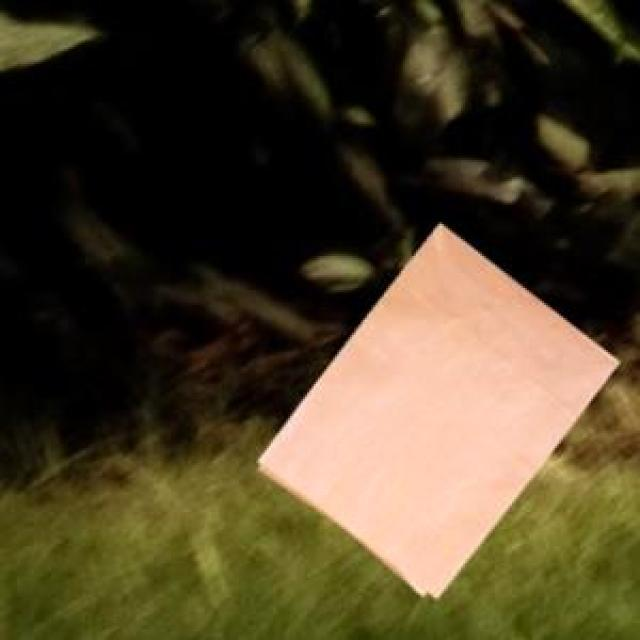Paper_Bag: (257, 220, 616, 594)
